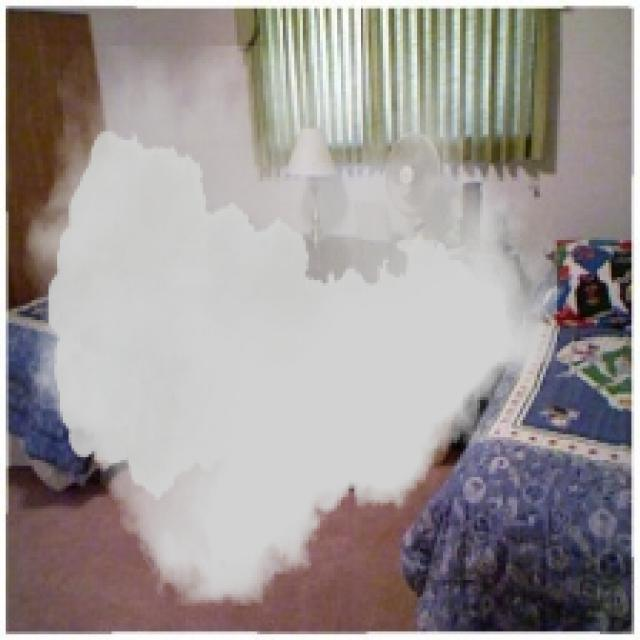Smoke: (22, 45, 558, 606)
